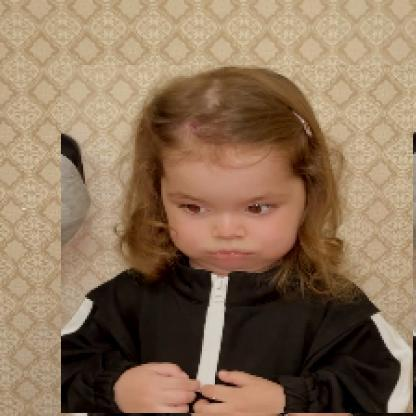child: (62, 66, 415, 415)
